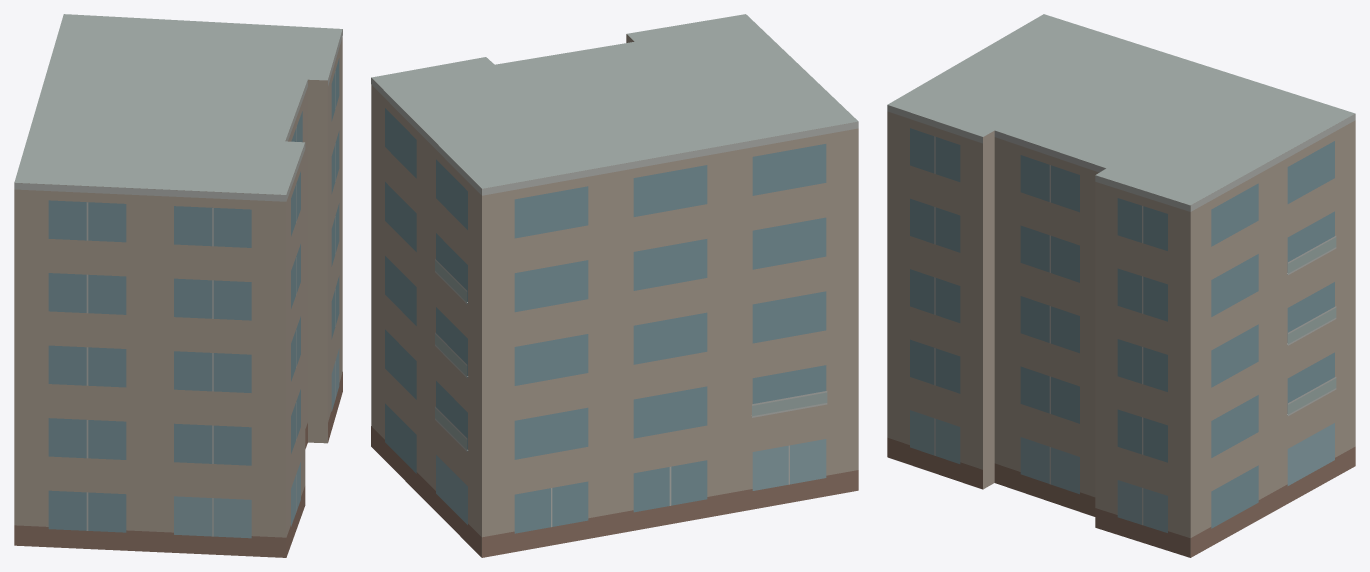
File: survey-upis-32494738.glb
3 renders of one model, left to right at view 1: azimuth 30°, elevation 25°; view 2: azimuth 150°, elevation 25°; view 3: azimuth 270°, elevation 25°, orthographic. The views are drawn at different scales.
Parts seen in each view (by area): view 1: survey-upis-32494738.tmp; view 2: survey-upis-32494738.tmp; view 3: survey-upis-32494738.tmp.
Part boxes in pixels (x1,y1,x2,y2): survey-upis-32494738.tmp: [14, 14, 342, 557]; survey-upis-32494738.tmp: [371, 14, 858, 557]; survey-upis-32494738.tmp: [887, 14, 1355, 557].
Size of the model in its own units: 15.27 by 13.1 by 15.79.
